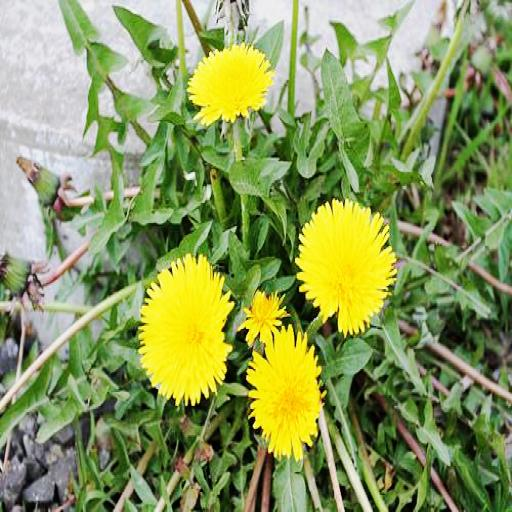dandelion: (137, 250, 234, 408), (297, 198, 396, 336), (248, 326, 326, 460), (188, 44, 272, 128), (240, 288, 284, 338)
